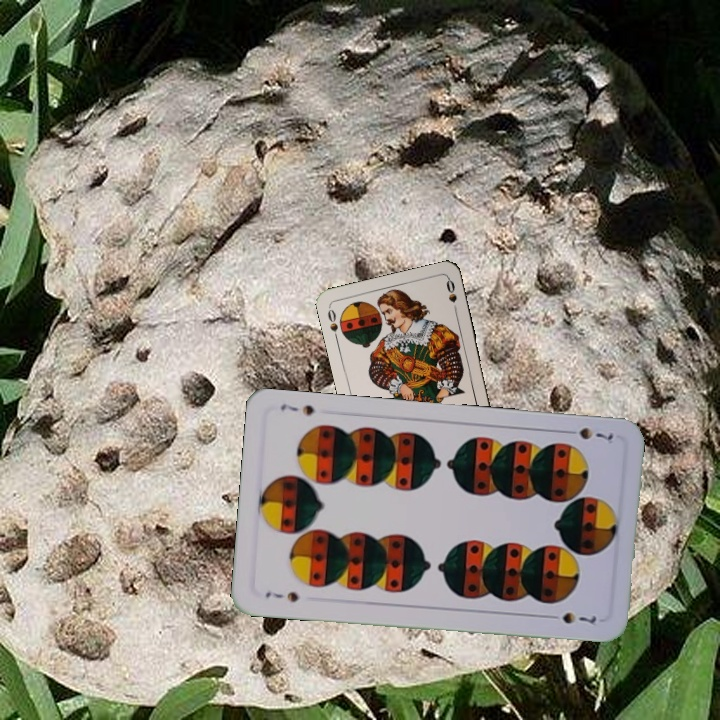S7: (560, 423, 619, 444), (261, 587, 301, 605)
SO: (324, 303, 341, 344)
